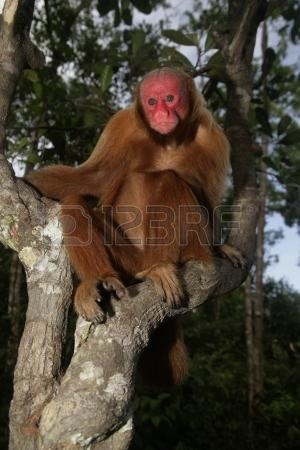monkey: (40, 66, 247, 324)
